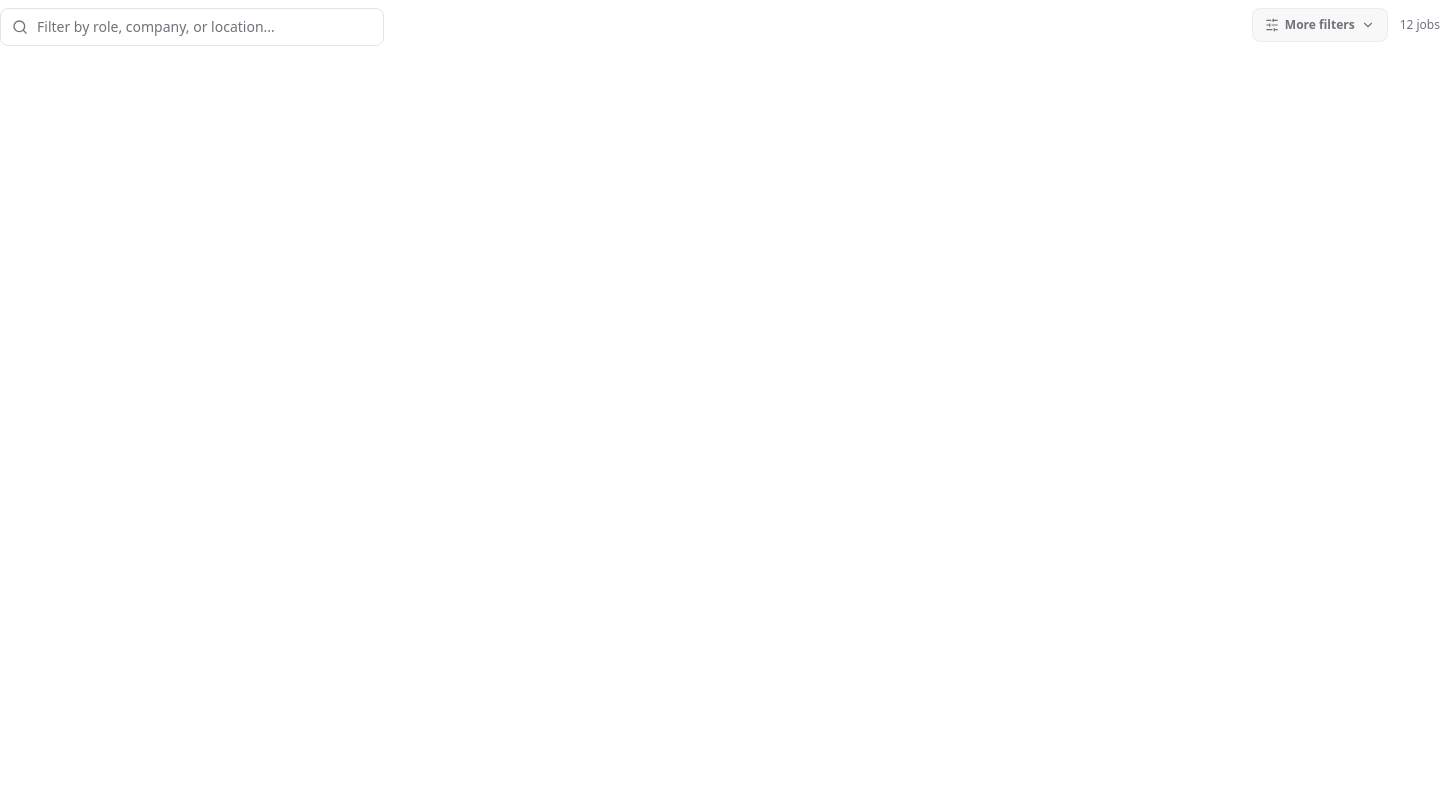
JobFilters component › selects an ownership option in the drawer
The width and height of the screenshot is (1440, 810).
Later steps or results of the test are not shown.
What coordinates should you click on to do the following:
click the button "More filters"
I would click on:
 (1320, 25)
Its box is x1=1252 y1=8 x2=1388 y2=42.
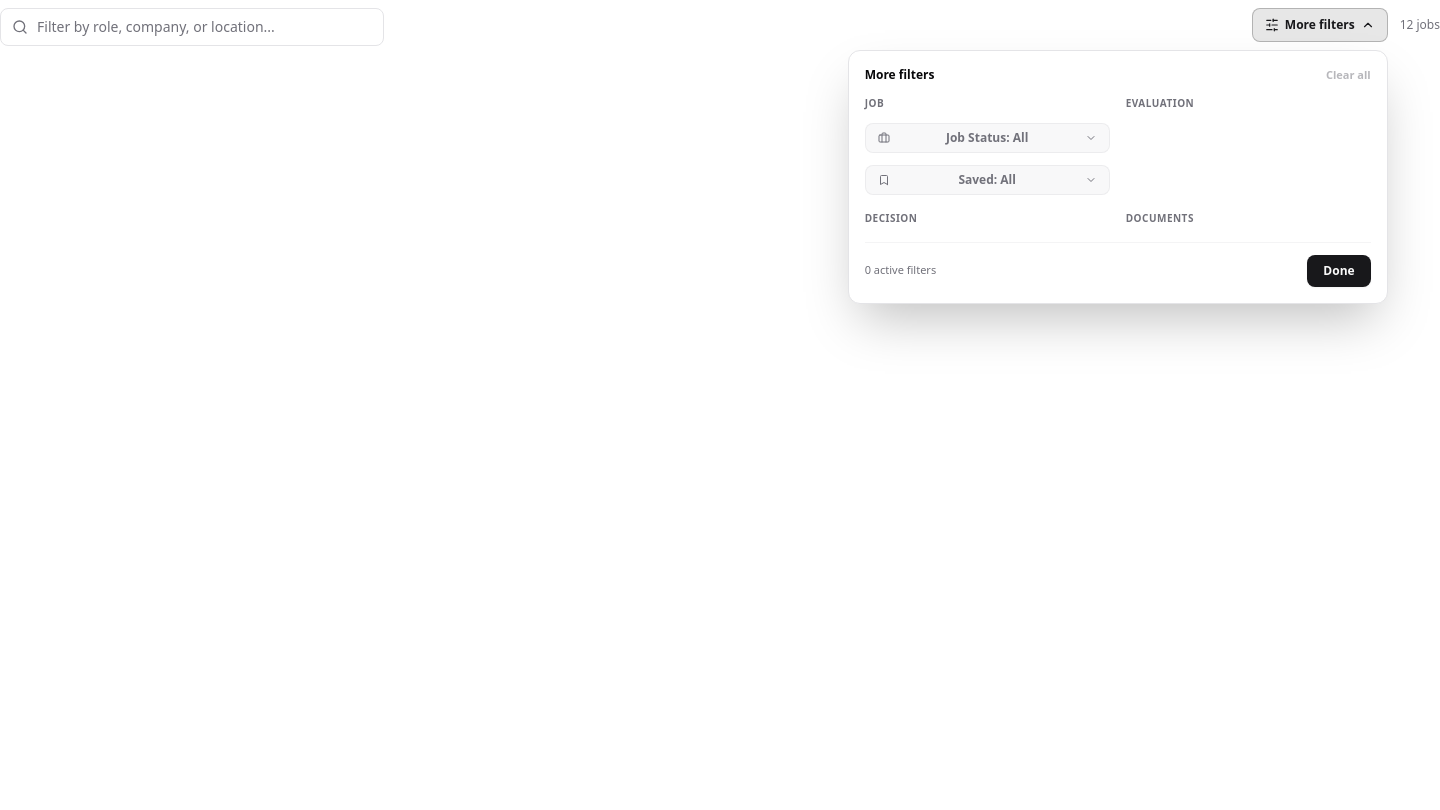
What coordinates should you click on to do the following:
click the button "Saved: All"
I would click on:
 (987, 180)
Its box is x1=866 y1=166 x2=1109 y2=194.
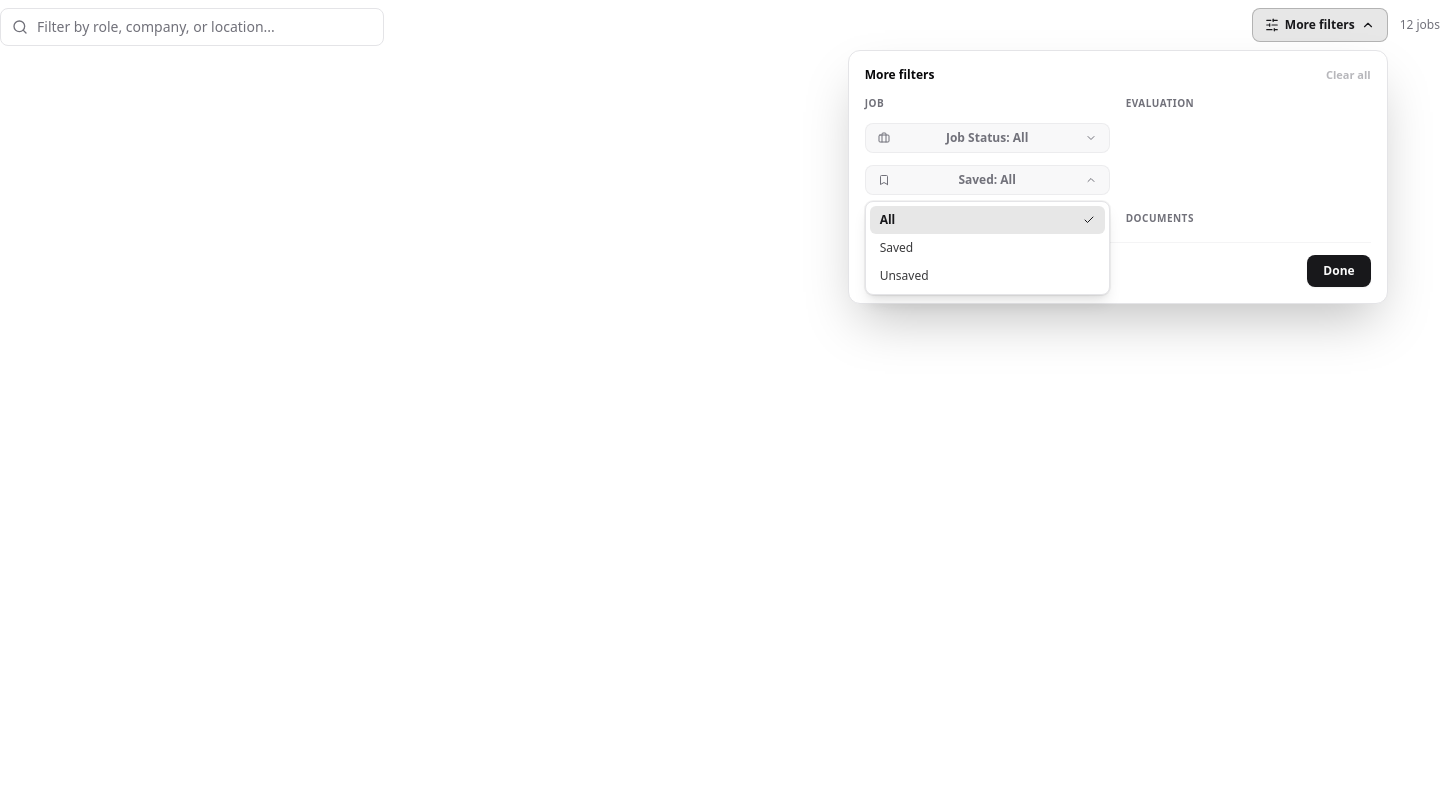
Expected: the list "All Saved Unsaved" is shown, x1=865 y1=200 x2=1110 y2=294
Expected: the option "Saved" is shown, x1=870 y1=234 x2=1105 y2=262
Expected: the option "Unsaved" is shown, x1=870 y1=262 x2=1105 y2=290
